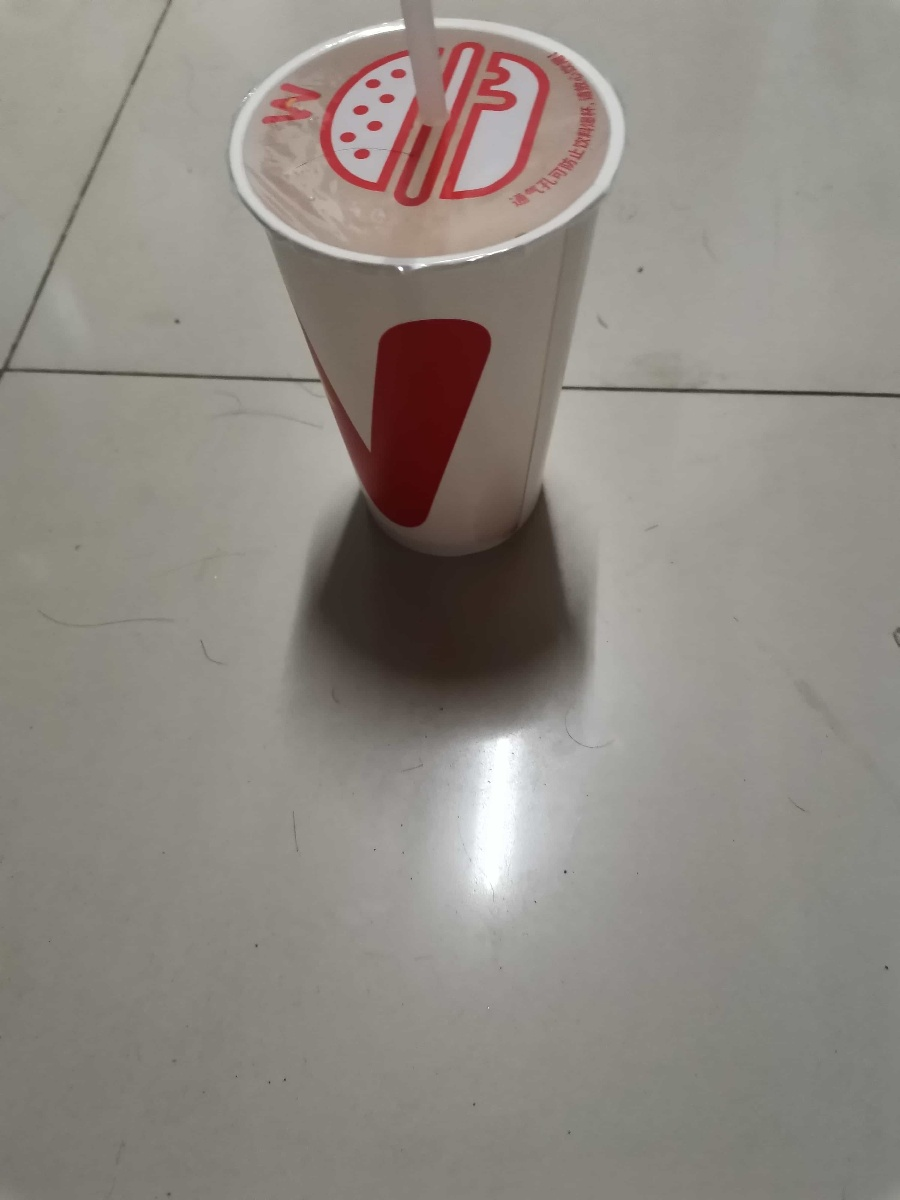cup: (214, 13, 640, 572)
